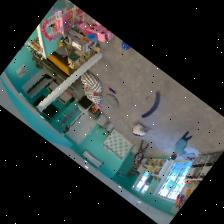person: (170, 130, 192, 159), (133, 139, 148, 164)
